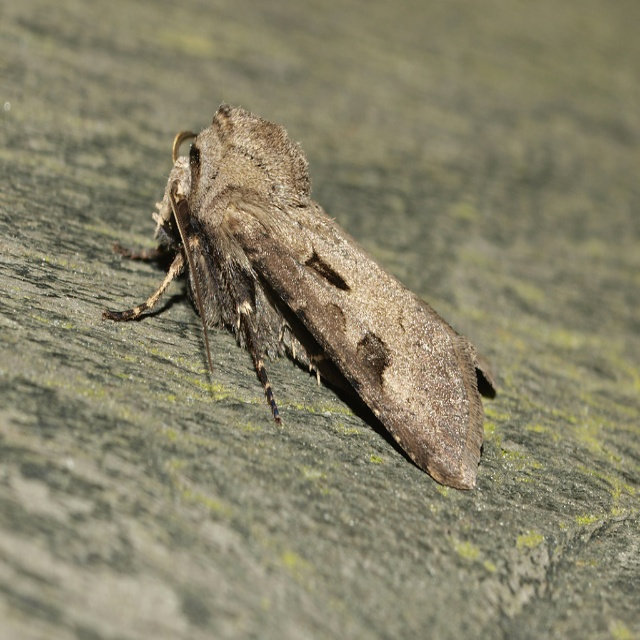Moths and butterflies: (100, 100, 500, 491)
